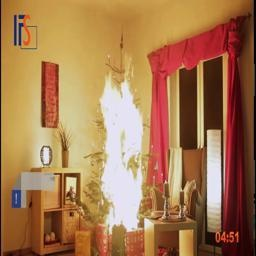fire: (89, 68, 161, 243)
